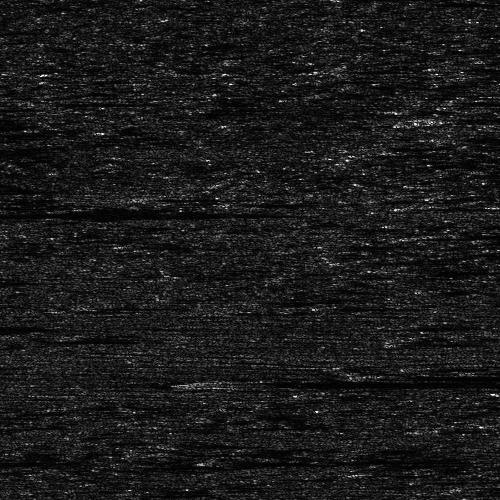rock: (399, 115, 462, 122), (334, 372, 407, 377), (415, 133, 456, 140), (197, 377, 218, 390), (491, 421, 500, 424)
shadow: (208, 377, 472, 390), (0, 207, 215, 220), (371, 372, 500, 377), (0, 458, 75, 465), (431, 115, 500, 122), (436, 133, 500, 140), (0, 325, 66, 330)
